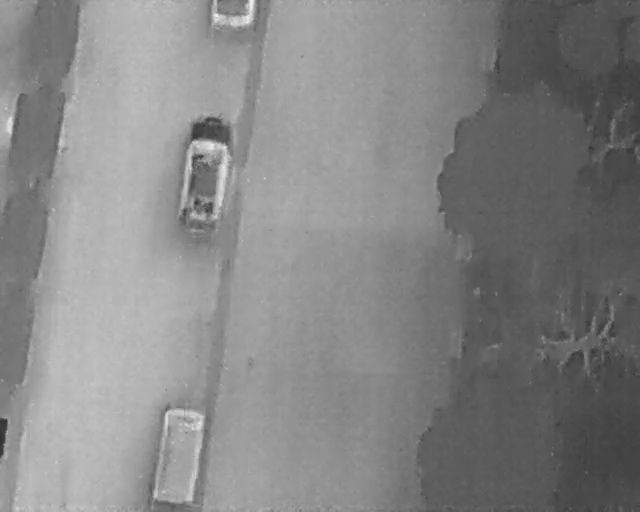Car: (172, 112, 237, 236), (146, 400, 210, 507), (204, 0, 259, 31)
